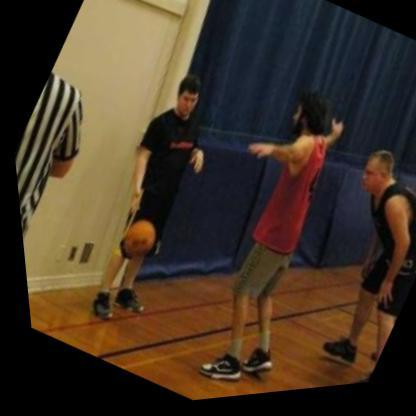basketball: (106, 211, 165, 271)
